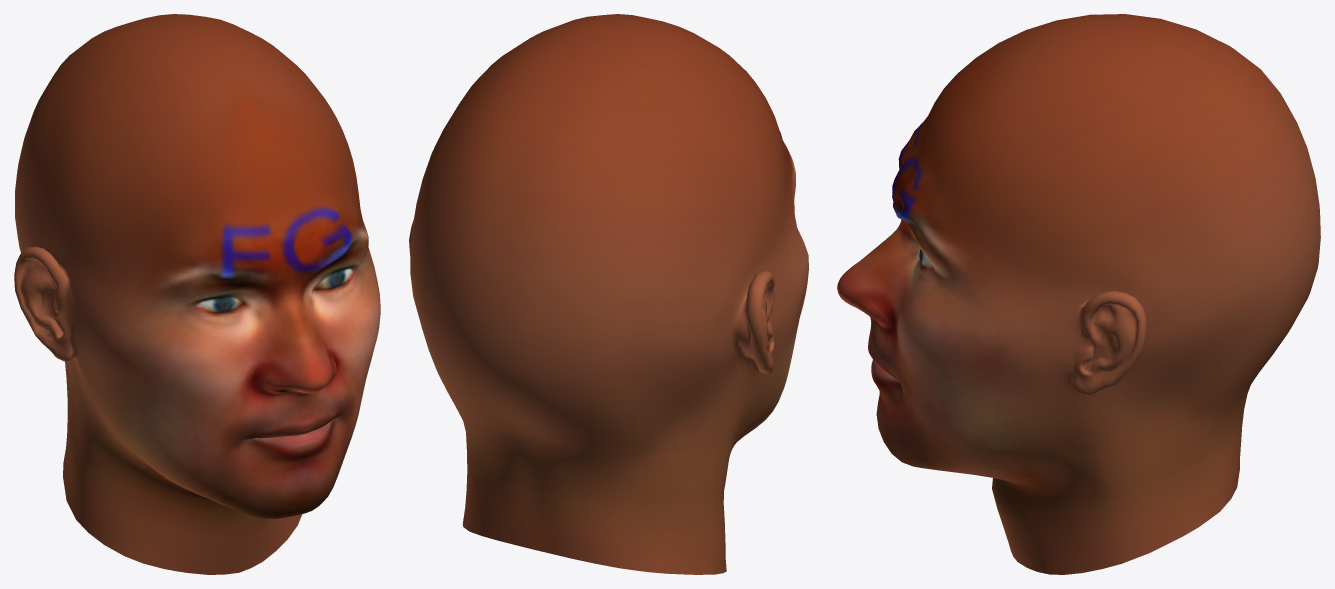
Rendered from avg_anyrace_male_02.obj.
3 renders of one model, left to right at view 1: azimuth 30°, elevation 25°; view 2: azimuth 150°, elevation 25°; view 3: azimuth 270°, elevation 25°, orthographic. The views are drawn at different scales.
Parts seen in each view (by area): view 1: HeadHires; view 2: HeadHires; view 3: HeadHires.
Part boxes in pixels (bbox=[...]): HeadHires: bbox=[14, 14, 380, 574]; HeadHires: bbox=[409, 14, 808, 574]; HeadHires: bbox=[837, 14, 1320, 574].
Bounding box in the file's own units: 190 × 282 × 238.
Materials: 1 (1 with a texture image).
